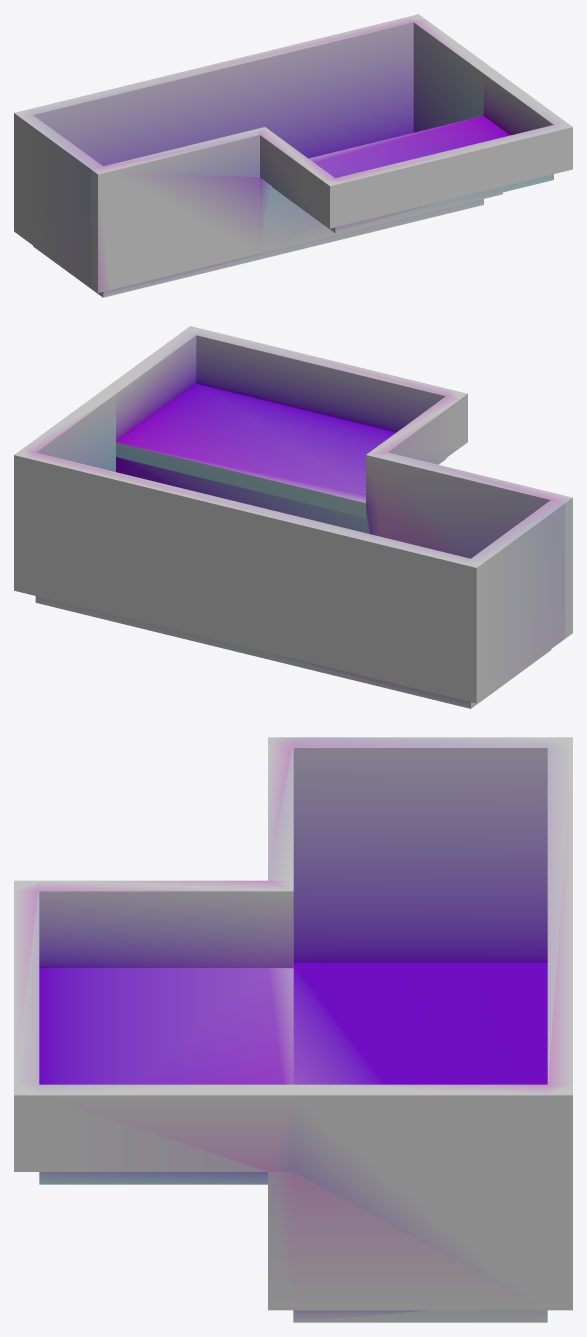
3 views of the same model, one above another, from view 1: azimuth 30°, elevation 25°; view 2: azimuth 150°, elevation 25°; view 3: azimuth 270°, elevation 25° (orthographic). The views are drawn at different scales.
Visible parts, largest first — view 1: deep_floor; view 2: deep_floor; view 3: deep_floor.
Part boxes in pixels (x1,y1,x2,y2): deep_floor: (14,14,572,297); deep_floor: (14,326,572,708); deep_floor: (14,737,572,1322).
Size of the model in its own units: 8 by 2.48 by 5.28.
